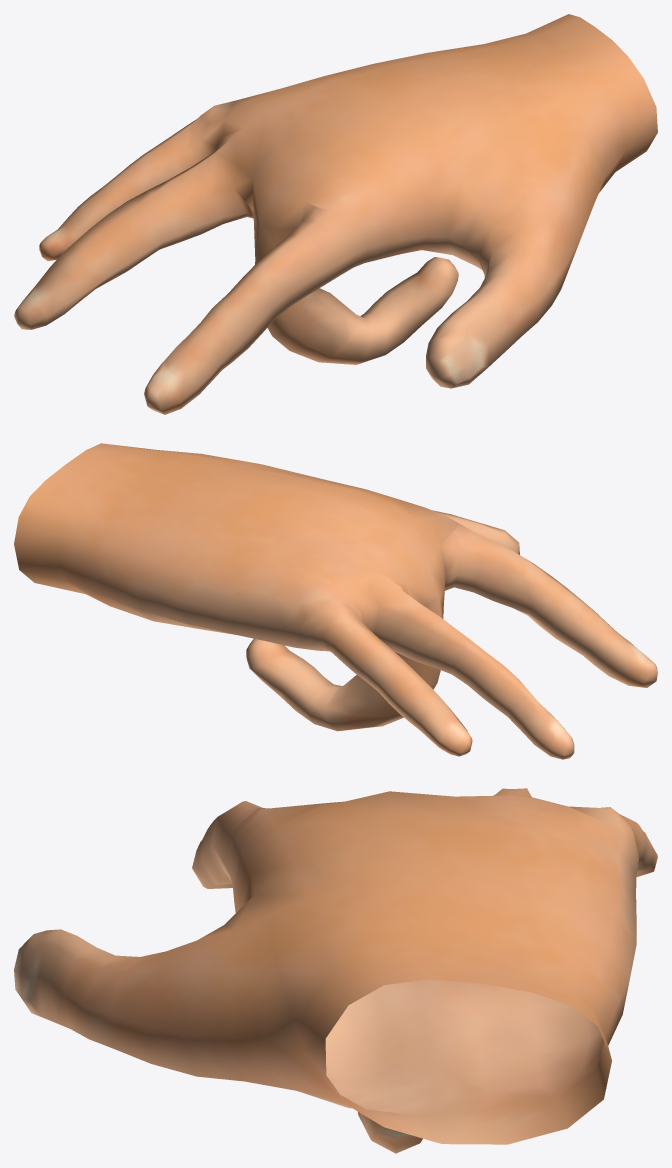
Rendered from F_middle_curl.fbx.
3 views of the same model, one above another, from view 1: azimuth 30°, elevation 25°; view 2: azimuth 150°, elevation 25°; view 3: azimuth 270°, elevation 25° (orthographic). The views are drawn at different scales.
Visible parts, largest first — view 1: F_middle_curl; view 2: F_middle_curl; view 3: F_middle_curl.
Boxes of the visible parts, box(x1,y1,x2,y2) form: F_middle_curl: box(14, 14, 657, 414); F_middle_curl: box(14, 443, 657, 759); F_middle_curl: box(14, 788, 657, 1153).
Size of the model in its own units: 19.07 by 8.05 by 13.69.
Materials: 1 (1 with a texture image).
